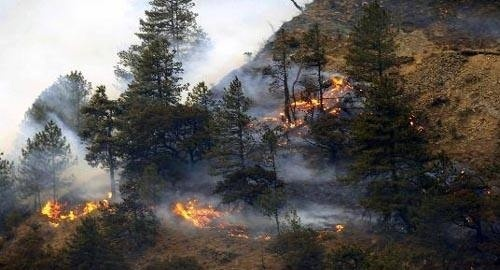fire: (259, 75, 354, 129), (37, 188, 116, 226), (171, 196, 242, 232), (406, 113, 427, 133), (332, 220, 346, 233)
